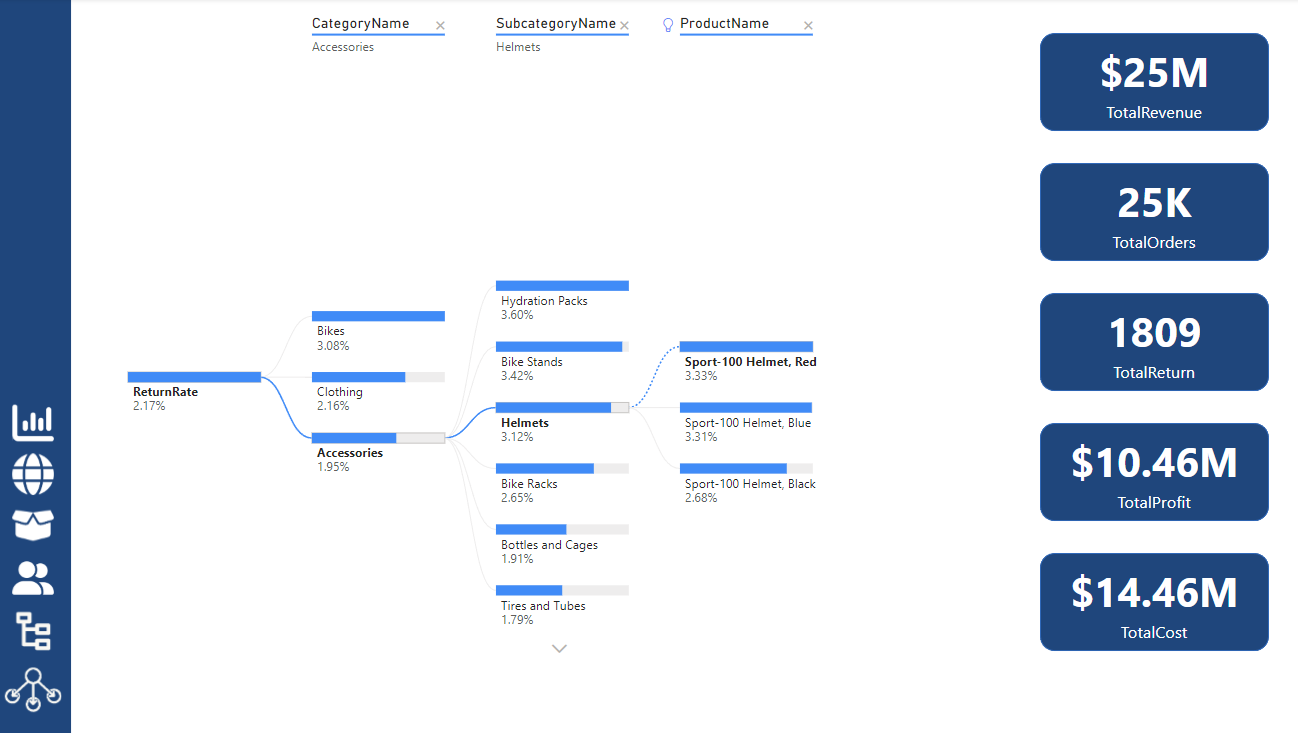

The dashboard page shown, as its layout file describes it:
{"tool":"powerbi","page":{"name":"Product Decomposition tree","canvas":[1280,720],"ordinal":5},"visuals":[{"type":"shape","title":"Customer Nav Background","box":[0,0,74.6,720],"z":0},{"type":"actionButton","box":[0,391.3,74.6,48.9],"z":0,"group":"g6"},{"type":"decompositionTreeVisual","fields":{"Analyze":["Measure Table.ReturnRate"],"ExplainBy":["Product Categories Lookup.CategoryName","Product Subcategories Lookup.SubcategoryName","Product Lookup.ProductName"]},"box":[100.3,0,922,720],"z":1000},{"type":"shape","box":[1022.2,34.6,224,96],"z":1000,"group":"g1"},{"type":"actionButton","box":[0,441.7,74.6,48.9],"z":1000,"group":"g6"},{"type":"group","id":"g1","title":"Group 1","box":[1022.2,34.4,224,96.6],"z":2000},{"type":"card","fields":{"Values":["Measure Table.TotalRevenue"]},"box":[1022.3,34.4,223.7,96.6],"z":2000,"group":"g1"},{"type":"actionButton","box":[0,492.1,74.6,48.9],"z":2000,"group":"g6"},{"type":"group","id":"g2","title":"Group 2","box":[1022.2,161.5,224,96.6],"z":3000},{"type":"shape","box":[1022.2,161.7,224,96],"z":3000,"group":"g2"},{"type":"actionButton","box":[0,592.8,74.6,52.6],"z":3000,"group":"g6"},{"type":"card","fields":{"Values":["Measure Table.TotalOrders"]},"box":[1022.3,161.5,223.7,96.6],"z":4000,"group":"g2"},{"type":"group","id":"g3","title":"Group 3","box":[1022.2,288.7,224,96.6],"z":4000},{"type":"actionButton","box":[0,646.9,74.6,63.6],"z":4000,"group":"g6"},{"type":"shape","box":[1022.2,288.9,224,96],"z":5000,"group":"g3"},{"type":"group","id":"g4","title":"Group 4","box":[1022.2,415.8,224,96.6],"z":5000},{"type":"actionButton","box":[0,542.4,74.6,48.9],"z":5000,"group":"g6"},{"type":"card","fields":{"Values":["Measure Table.TotalReturn"]},"box":[1022.3,288.7,223.7,96.6],"z":6000,"group":"g3"},{"type":"group","id":"g5","title":"Group 5","box":[1022.2,543,224,96.6],"z":6000},{"type":"group","id":"g6","title":"Group 1","box":[0,391.3,74.6,319.2],"z":7000},{"type":"shape","box":[1022.2,416,224,96],"z":7000,"group":"g4"},{"type":"card","fields":{"Values":["Measure Table.TotalProfit"]},"box":[1022.3,415.8,223.7,96.6],"z":8000,"group":"g4"},{"type":"shape","box":[1022.2,543.2,224,96],"z":9000,"group":"g5"},{"type":"card","fields":{"Values":["Measure Table.TotalCost"]},"box":[1022.3,543,223.7,96.6],"z":10000,"group":"g5"}]}

Visuals, with their boxes on the page's 1280x720 design canvas (x1, y1, x2, y2). These are canvas units, not pixel positions in the 1298x733 screenshot, which may show the page scaled, cropped or inside an application window:
"Customer Nav Background" shape: (left=0, top=0, right=75, bottom=720)
actionButton: (left=0, top=391, right=75, bottom=440)
decompositionTreeVisual - Measure Table.ReturnRate x Product Categories Lookup.CategoryName: (left=100, top=0, right=1022, bottom=720)
shape: (left=1022, top=35, right=1246, bottom=131)
actionButton: (left=0, top=442, right=75, bottom=491)
"Group 1" group: (left=1022, top=34, right=1246, bottom=131)
card - Measure Table.TotalRevenue: (left=1022, top=34, right=1246, bottom=131)
actionButton: (left=0, top=492, right=75, bottom=541)
"Group 2" group: (left=1022, top=162, right=1246, bottom=258)
shape: (left=1022, top=162, right=1246, bottom=258)
actionButton: (left=0, top=593, right=75, bottom=645)
card - Measure Table.TotalOrders: (left=1022, top=162, right=1246, bottom=258)
"Group 3" group: (left=1022, top=289, right=1246, bottom=385)
actionButton: (left=0, top=647, right=75, bottom=710)
shape: (left=1022, top=289, right=1246, bottom=385)
"Group 4" group: (left=1022, top=416, right=1246, bottom=512)
actionButton: (left=0, top=542, right=75, bottom=591)
card - Measure Table.TotalReturn: (left=1022, top=289, right=1246, bottom=385)
"Group 5" group: (left=1022, top=543, right=1246, bottom=640)
"Group 1" group: (left=0, top=391, right=75, bottom=710)
shape: (left=1022, top=416, right=1246, bottom=512)
card - Measure Table.TotalProfit: (left=1022, top=416, right=1246, bottom=512)
shape: (left=1022, top=543, right=1246, bottom=639)
card - Measure Table.TotalCost: (left=1022, top=543, right=1246, bottom=640)
